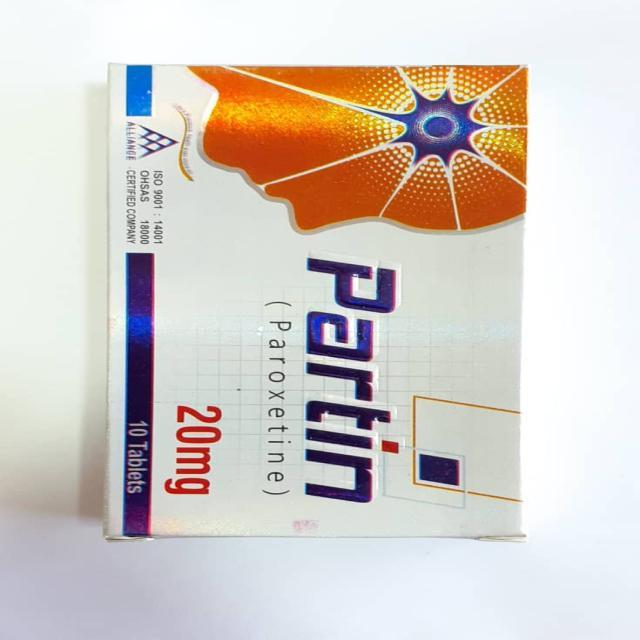drug-name: (298, 245, 402, 506)
